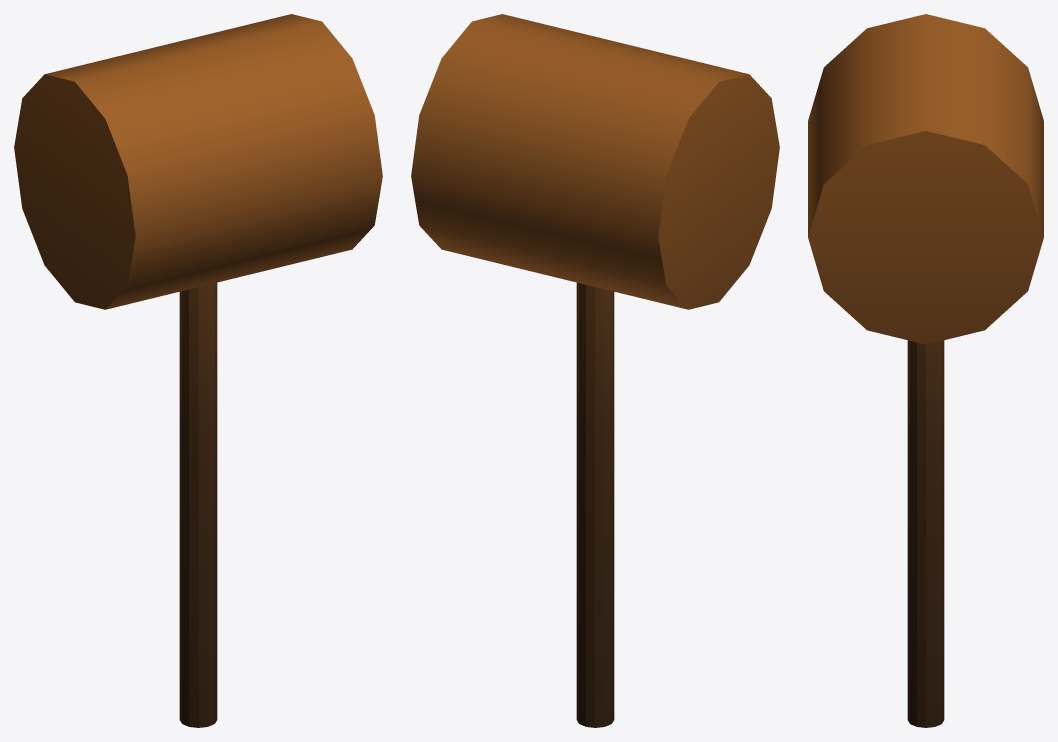
File: Hammer.fbx
3 renders of one model, left to right at view 1: azimuth 30°, elevation 25°; view 2: azimuth 150°, elevation 25°; view 3: azimuth 270°, elevation 25°, orthographic. The views are drawn at different scales.
Parts seen in each view (by area): view 1: Hammer; view 2: Hammer; view 3: Hammer.
Boxes of the visible parts, x1,y1,x2,y2 form: Hammer: [14, 14, 382, 727]; Hammer: [411, 14, 779, 727]; Hammer: [808, 14, 1043, 727].
Bounding box in the file's own units: 59.17 × 153 × 50.46.
